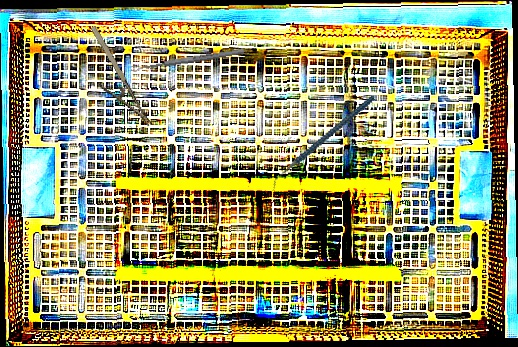Chopper: (253, 95, 393, 192)
Needle Holder: (73, 24, 153, 138)
Surgical Spoon: (130, 47, 245, 73)
